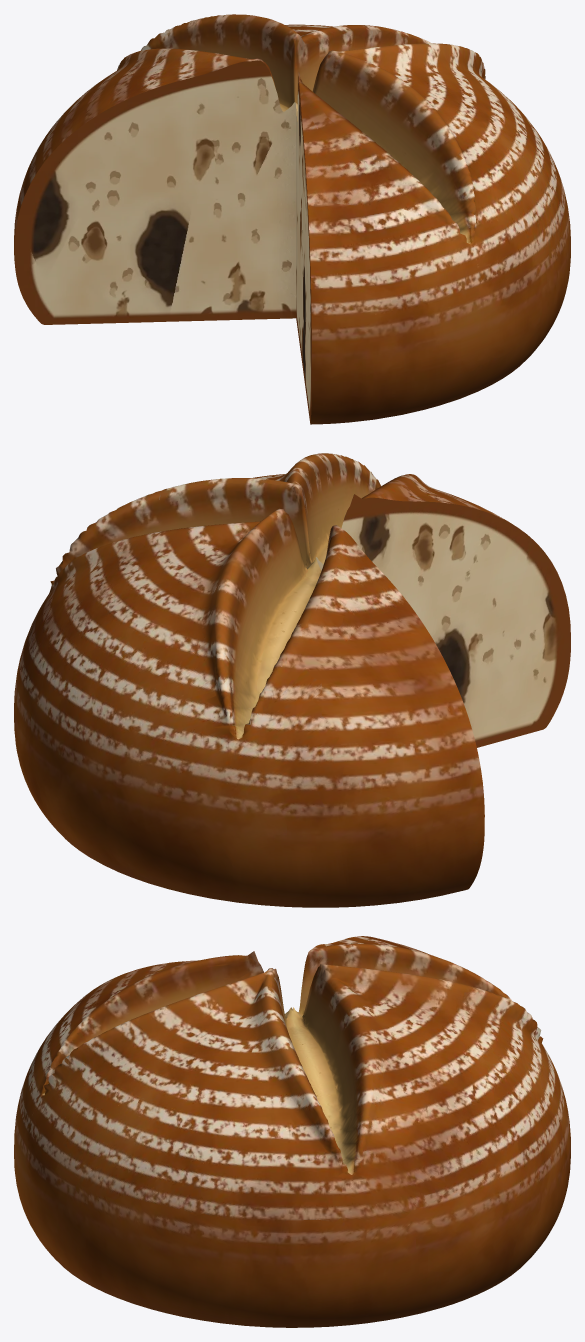
Rendered from campagne--blackgarlic-crumble.glb.
3 views of the same model, one above another, from view 1: azimuth 30°, elevation 25°; view 2: azimuth 150°, elevation 25°; view 3: azimuth 270°, elevation 25° (orthographic). The views are drawn at different scales.
Visible parts, largest first — view 1: campagne_blackgarlic-crumble; view 2: campagne_blackgarlic-crumble; view 3: campagne_blackgarlic-crumble.
Boxes of the visible parts, <box> form: campagne_blackgarlic-crumble: <box>14,14,570,424</box>; campagne_blackgarlic-crumble: <box>14,453,570,907</box>; campagne_blackgarlic-crumble: <box>14,936,570,1327</box>.
Bounding box in the file's own units: 0.9463 × 0.5303 × 0.9991.
Materials: 1 (1 with a texture image).
